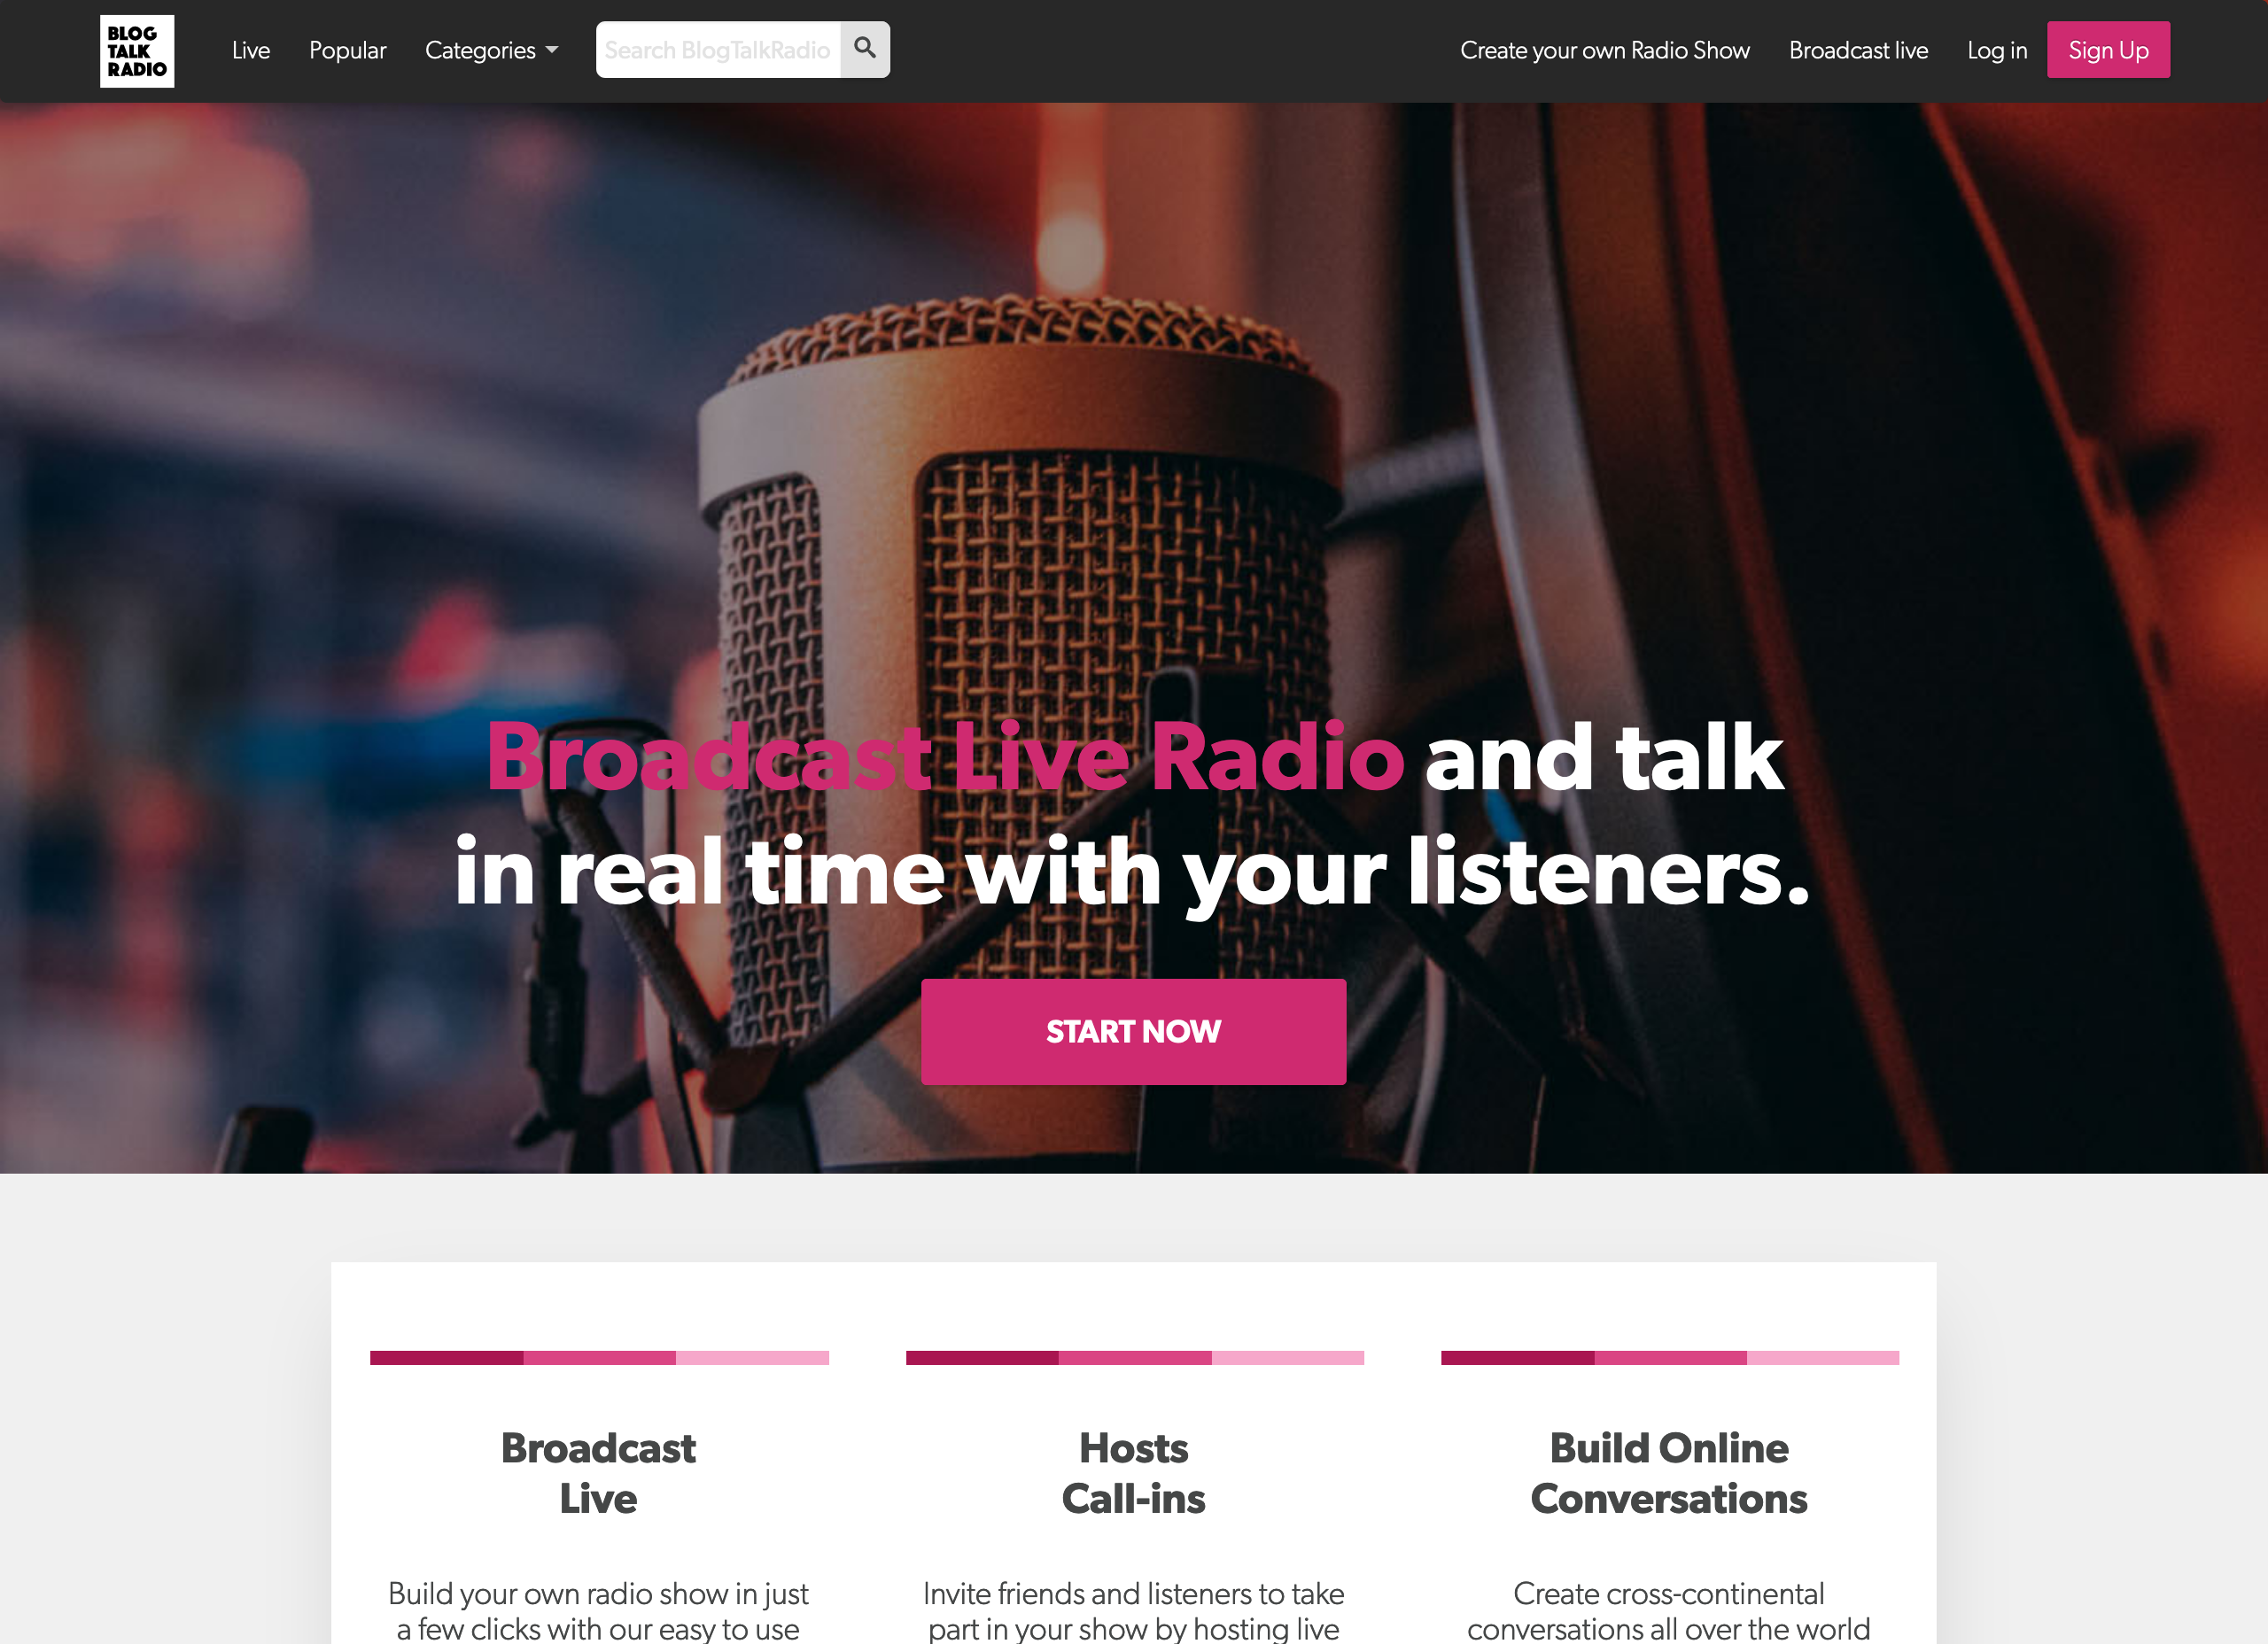Login: (1958, 33, 2036, 69)
